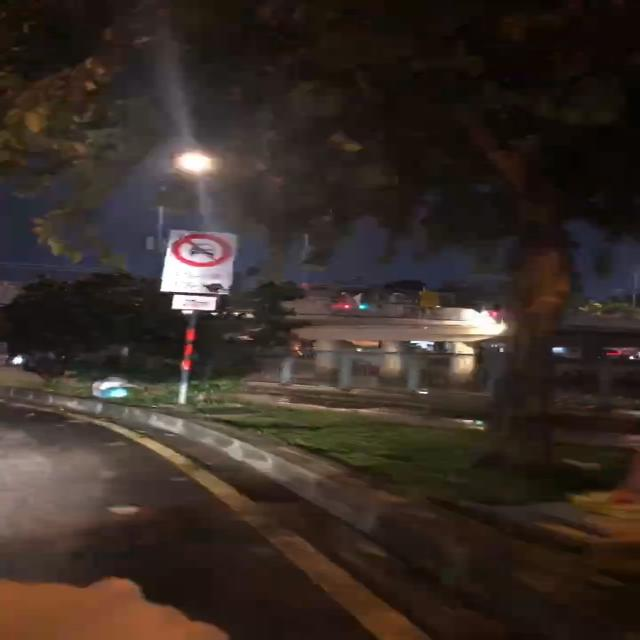Bien bao cam xe oto: (168, 229, 240, 268)
